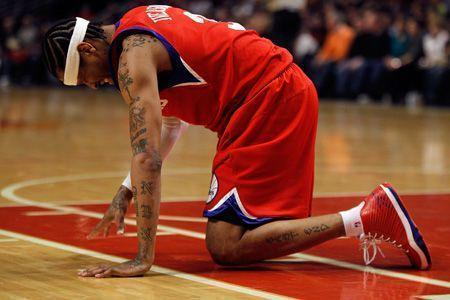Fall-Detected: (47, 1, 445, 267)
